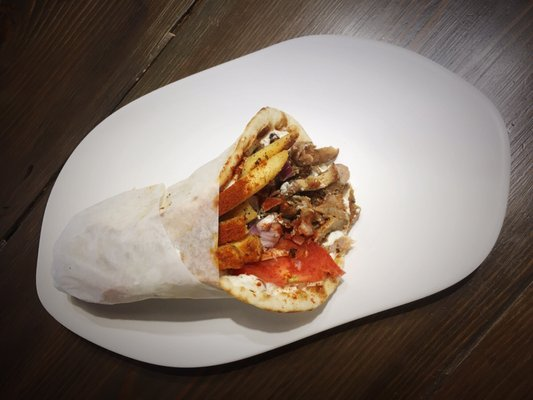soup: (52, 106, 362, 312)
